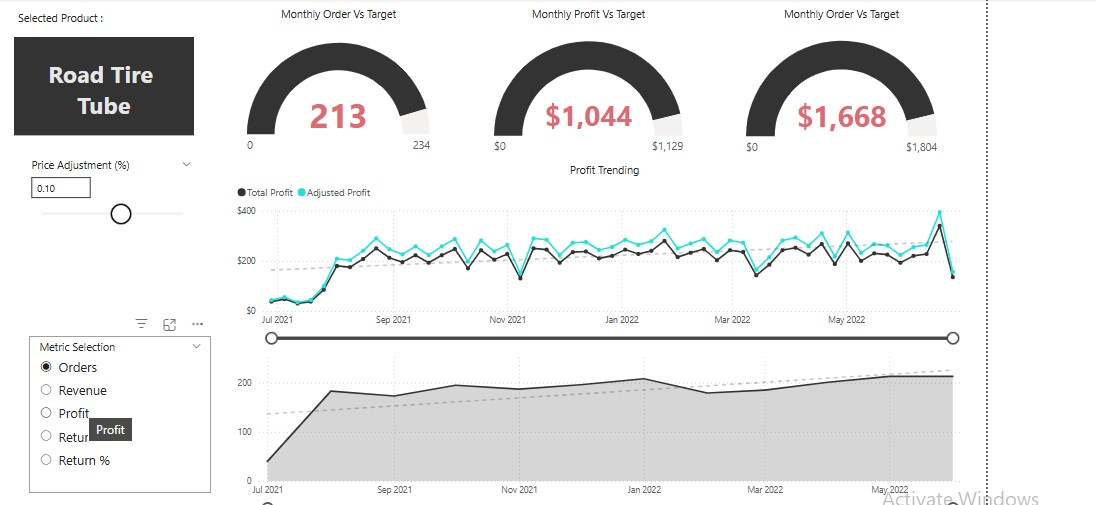

What the dashboard file says about the page in this screenshot:
{"tool":"powerbi","page":{"name":"Product Details","canvas":[1280,720],"ordinal":2},"visuals":[{"type":"shape","title":"Left Nav. Background","box":[0,0,45,711.2],"z":0},{"type":"actionButton","box":[0,579,45,40],"z":0,"group":"g1"},{"type":"gauge","title":"Monthly Order Vs Target","fields":{"Y":["Meaure Table.Total Orders"],"MaxValue":["Meaure Table.Order Target"]},"box":[351.2,11.2,238.8,213.8],"z":1000},{"type":"actionButton","box":[0,522.7,45,40],"z":1000,"group":"g1"},{"type":"gauge","title":"Monthly Profit Vs Target","fields":{"Y":["Meaure Table.Total Profit"],"MaxValue":["Meaure Table.Profit Target"]},"box":[659.4,11.2,246.2,213.8],"z":2000},{"type":"actionButton","box":[0,469.6,45,40],"z":2000,"group":"g1"},{"type":"actionButton","box":[0,416.5,45,40],"z":3000,"group":"g1"},{"type":"gauge","title":"Monthly Order Vs Target","fields":{"Y":["Meaure Table.Total Revenue"],"MaxValue":["Meaure Table.Revenue Target"]},"box":[975,11.2,248.8,213.8],"z":3000},{"type":"lineChart","title":" Profit Trending","fields":{"Category":["Calendar Lookup.Date Hierarchy.Start of Year","Calendar Lookup.Date Hierarchy.Start of Month","Calendar Lookup.Date Hierarchy.Start of Week","Calendar Lookup.Date Hierarchy.Date"],"Y":["Meaure Table.Total Profit","Meaure Table.Adjusted Profit"]},"box":[338.8,206.2,928.8,230],"z":4000},{"type":"areaChart","title":"Revenue Trending","fields":{"Y":["Meaure Table.Total Orders"],"Category":["Calendar Lookup.Date Hierarchy.Start of Year","Calendar Lookup.Date Hierarchy.Start of Month","Calendar Lookup.Date Hierarchy.Start of Week","Calendar Lookup.Date Hierarchy.Date"]},"box":[338.8,436.2,928.8,212.5],"z":5000},{"type":"card","fields":{"Values":["Min(Product Lookup.ProductName)"]},"box":[65,48.8,225,122.5],"z":6000},{"type":"textbox","box":[65,11.2,233.8,37.5],"z":7000},{"type":"group","id":"g1","title":"Navigation Buttons","box":[0,416.5,45,202.5],"z":8000},{"type":"slicer","fields":{"Values":["Price Adjustment (%).Price Adjustment (%)"]},"box":[73.8,195,225,150],"z":9000},{"type":"slicer","fields":{"Values":["Metric Selection.Metric Selection"]},"box":[83.8,422.5,227.5,196.2],"z":10000}]}

Visuals, with their boxes on the page's 1280x720 design canvas (x1, y1, x2, y2). These are canvas units, not pixel positions in the 1096x505 screenshot, which may show the page scaled, cropped or inside an application window:
"Left Nav. Background" shape: bbox=[0, 0, 45, 711]
actionButton: bbox=[0, 579, 45, 619]
"Monthly Order Vs Target" gauge: bbox=[351, 11, 590, 225]
actionButton: bbox=[0, 523, 45, 563]
"Monthly Profit Vs Target" gauge: bbox=[659, 11, 906, 225]
actionButton: bbox=[0, 470, 45, 510]
actionButton: bbox=[0, 416, 45, 456]
"Monthly Order Vs Target" gauge: bbox=[975, 11, 1224, 225]
" Profit Trending" lineChart: bbox=[339, 206, 1268, 436]
"Revenue Trending" areaChart: bbox=[339, 436, 1268, 649]
card - Min(Product Lookup.ProductName): bbox=[65, 49, 290, 171]
textbox: bbox=[65, 11, 299, 49]
"Navigation Buttons" group: bbox=[0, 416, 45, 619]
slicer - Price Adjustment (%).Price Adjustment (%): bbox=[74, 195, 299, 345]
slicer - Metric Selection.Metric Selection: bbox=[84, 422, 311, 619]
